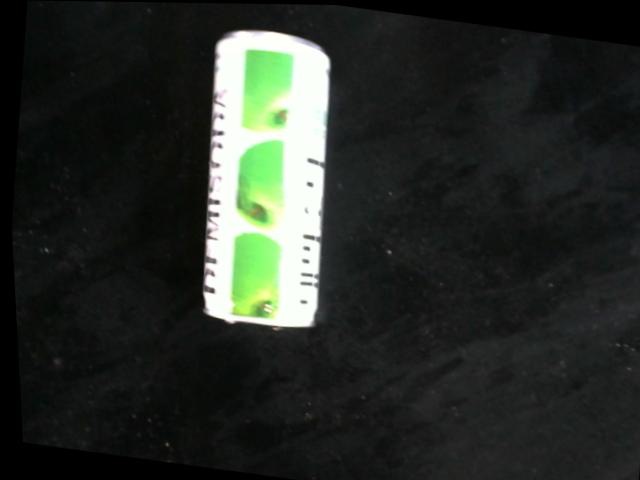can: (198, 27, 331, 332)
